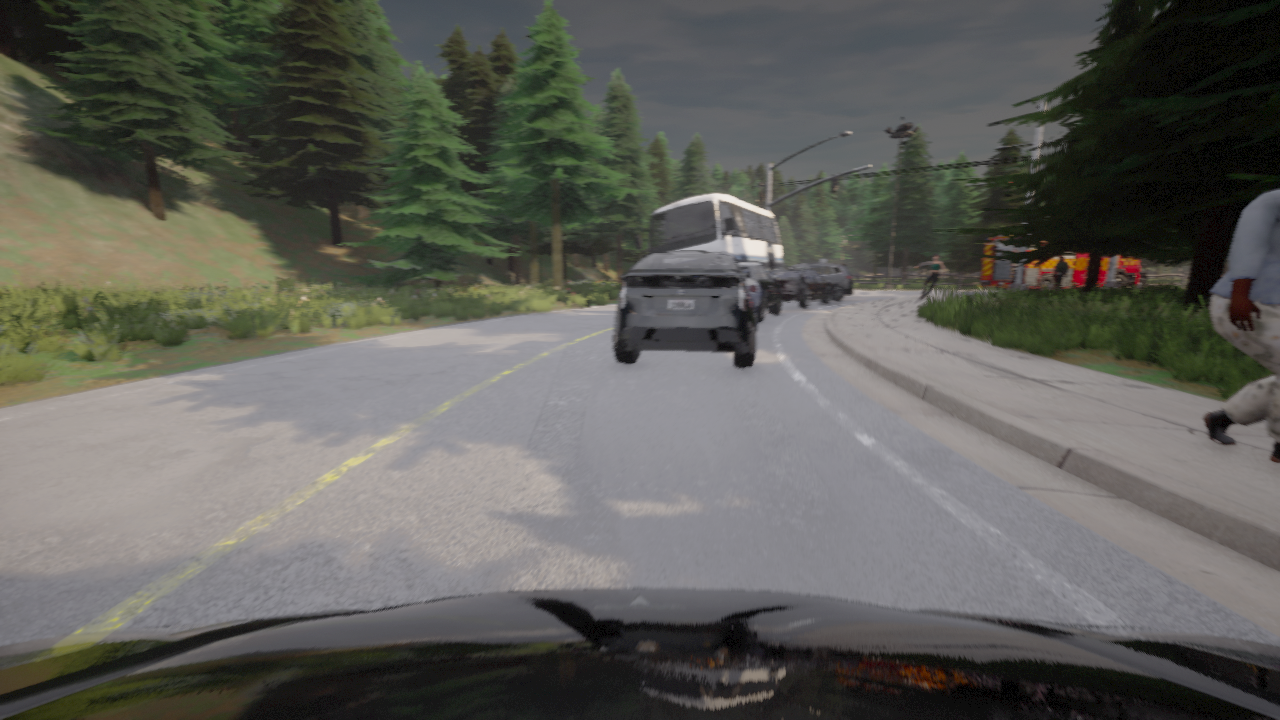cyclist: (0, 588, 1279, 719), (614, 251, 756, 367), (635, 193, 783, 273), (980, 234, 1140, 291), (738, 263, 781, 322), (768, 268, 833, 306), (790, 263, 853, 300), (1099, 263, 1147, 289)
pedestrian: (1203, 188, 1279, 463), (916, 254, 945, 298), (1052, 256, 1068, 287)
